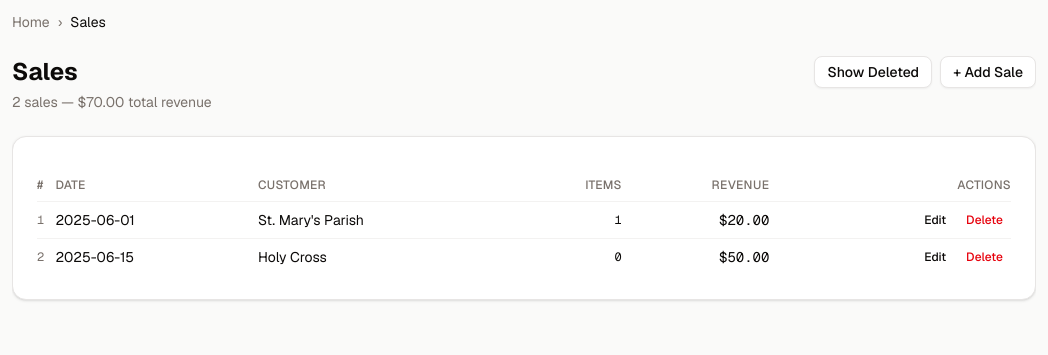
SalesPage › shows deleted sales when Show Deleted is clicked
Expected: the text "St. Mary's Parish" is shown, [258,202,529,238]
Click the button "Show Deleted".
click(873, 72)  # box [814,56,932,88]
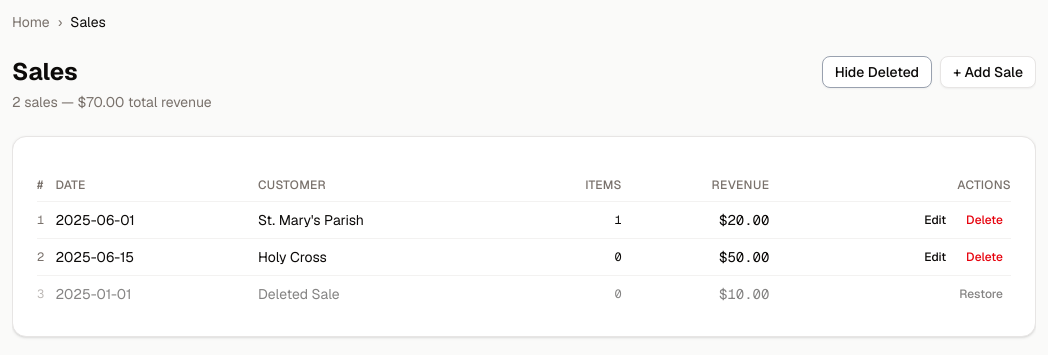
Expected: the text "Deleted Sale" is shown, [258,276,529,312]
Expected: the button "Hide Deleted" is shown, [822,56,932,88]
